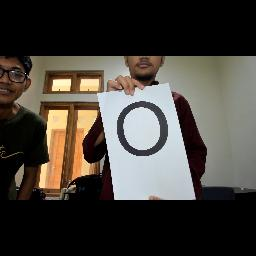o: (113, 96, 175, 164)
